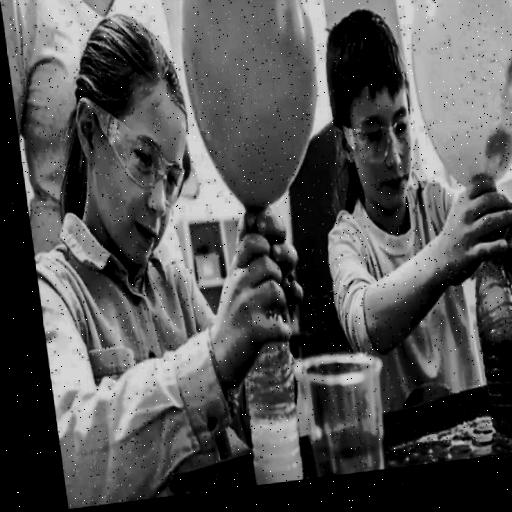balloon: (168, 0, 334, 215), (397, 0, 512, 195)
